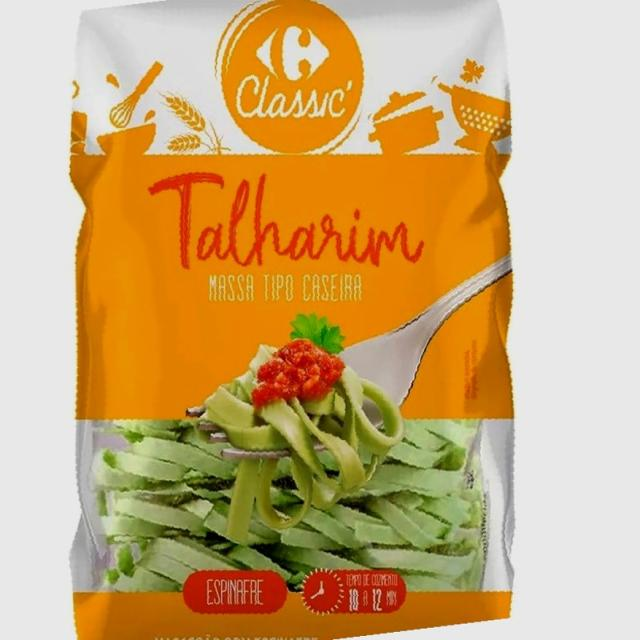pasta package: (71, 0, 513, 639)
